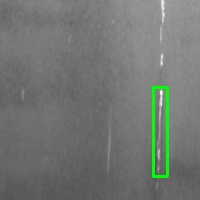scratches: (153, 87, 167, 176)
